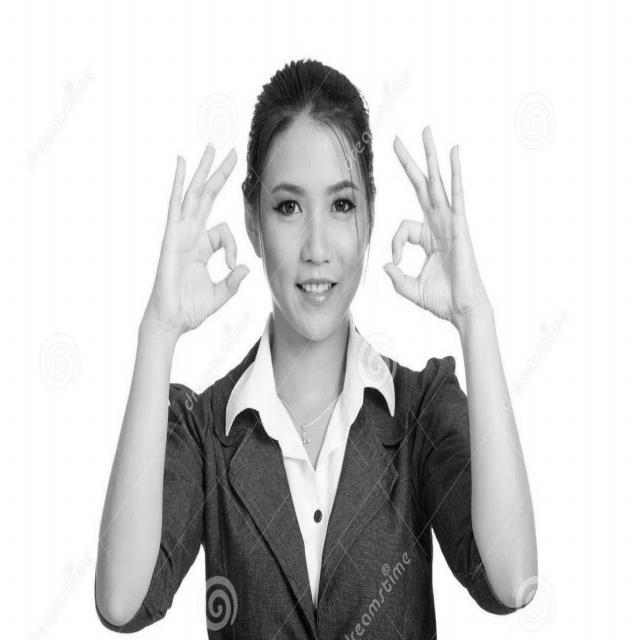perfect: (380, 118, 495, 328), (144, 134, 252, 341)
